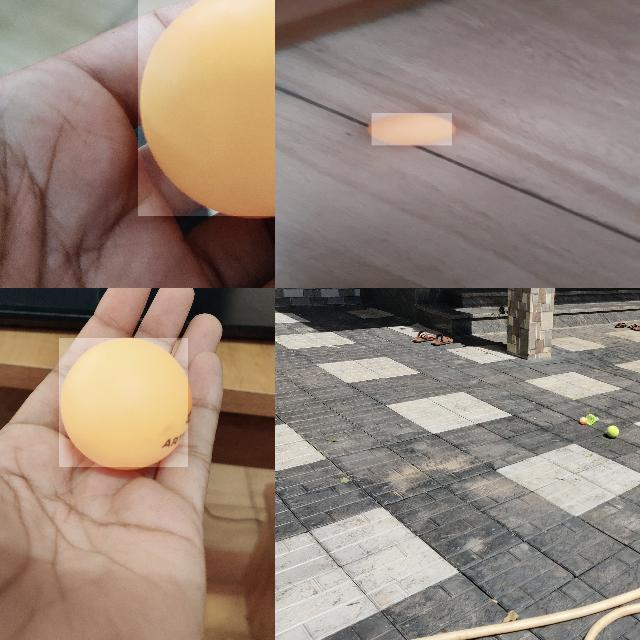ping-pong-ball: (138, 0, 274, 218), (59, 338, 189, 468), (371, 112, 454, 146), (580, 417, 586, 423)
